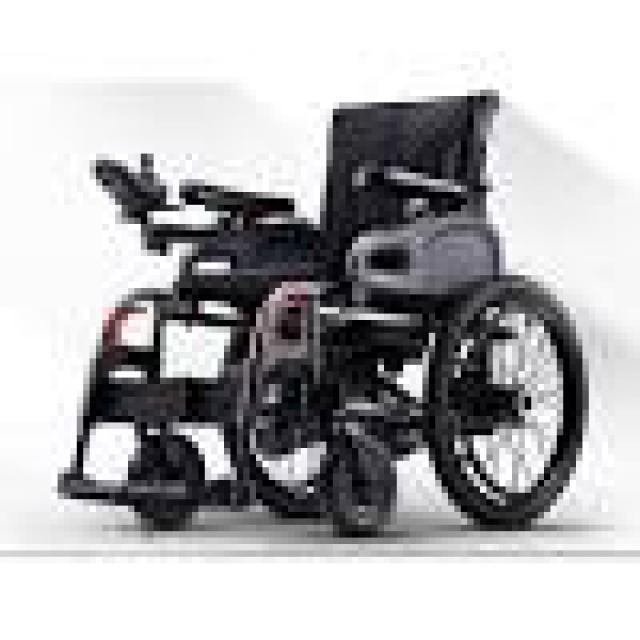wheelchair: (38, 70, 608, 538)
